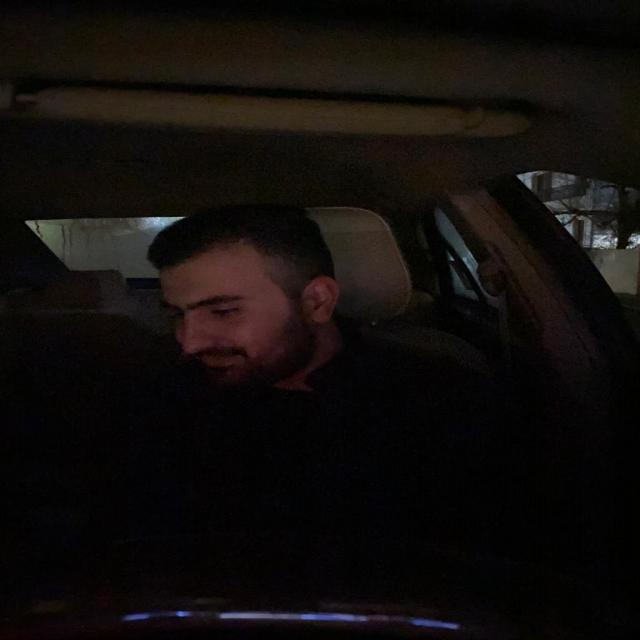person: (140, 192, 362, 402)
